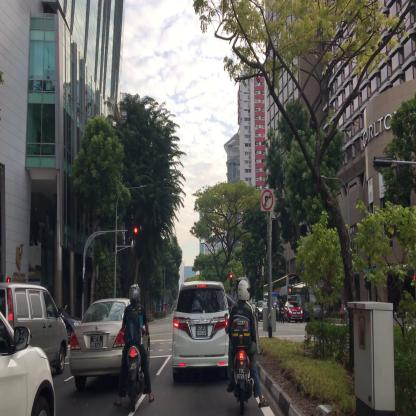red_traffic_light: (127, 225, 138, 235), (230, 273, 233, 288)
